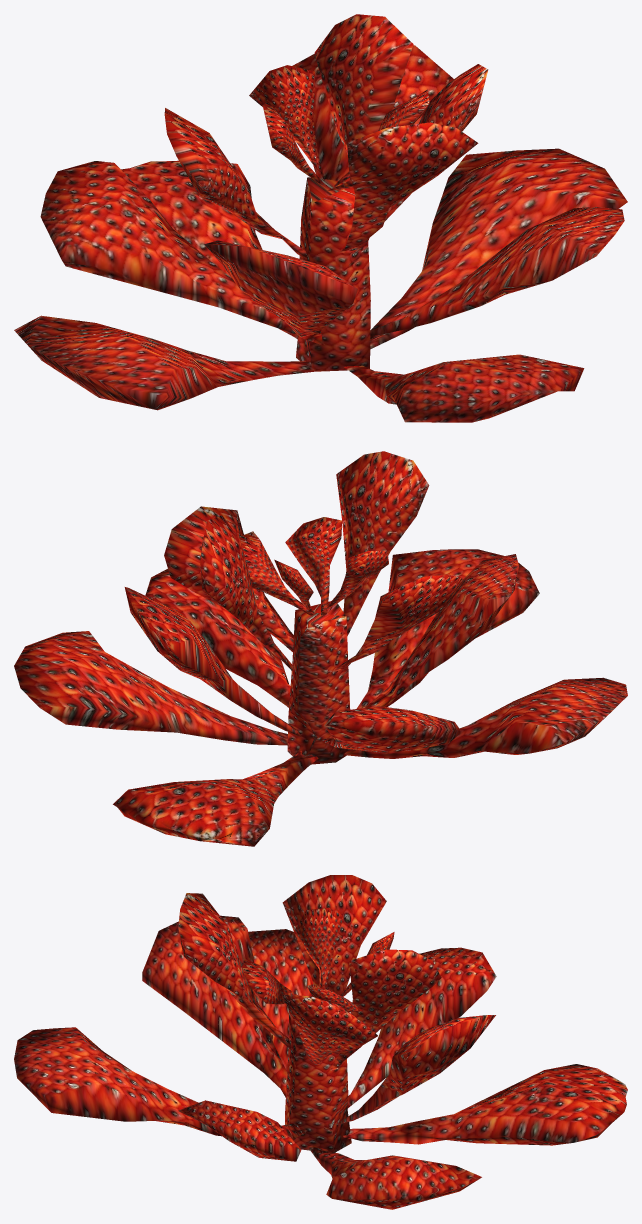
Rendered from Plant1_lod_1000.obj.
3 renders of one model, top to bottom at view 1: azimuth 30°, elevation 25°; view 2: azimuth 150°, elevation 25°; view 3: azimuth 270°, elevation 25°, orthographic. The views are drawn at different scales.
Size of the model in its own units: 25.95 by 11.6 by 27.07.
